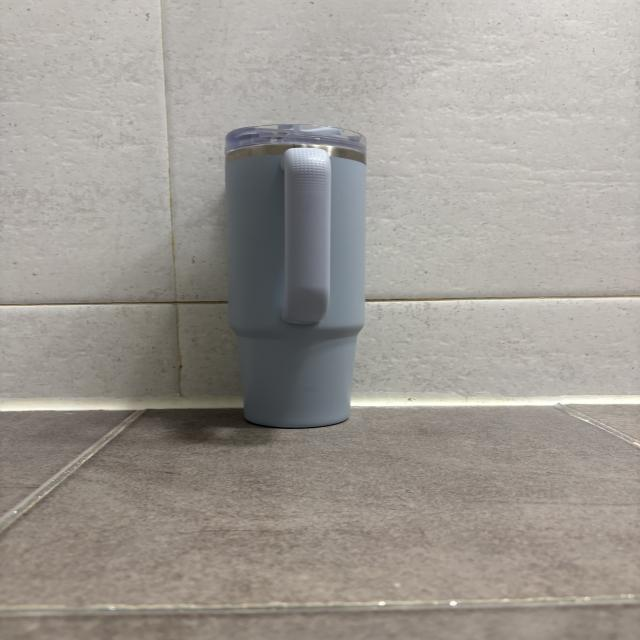waterbottle: (226, 123, 364, 428)
